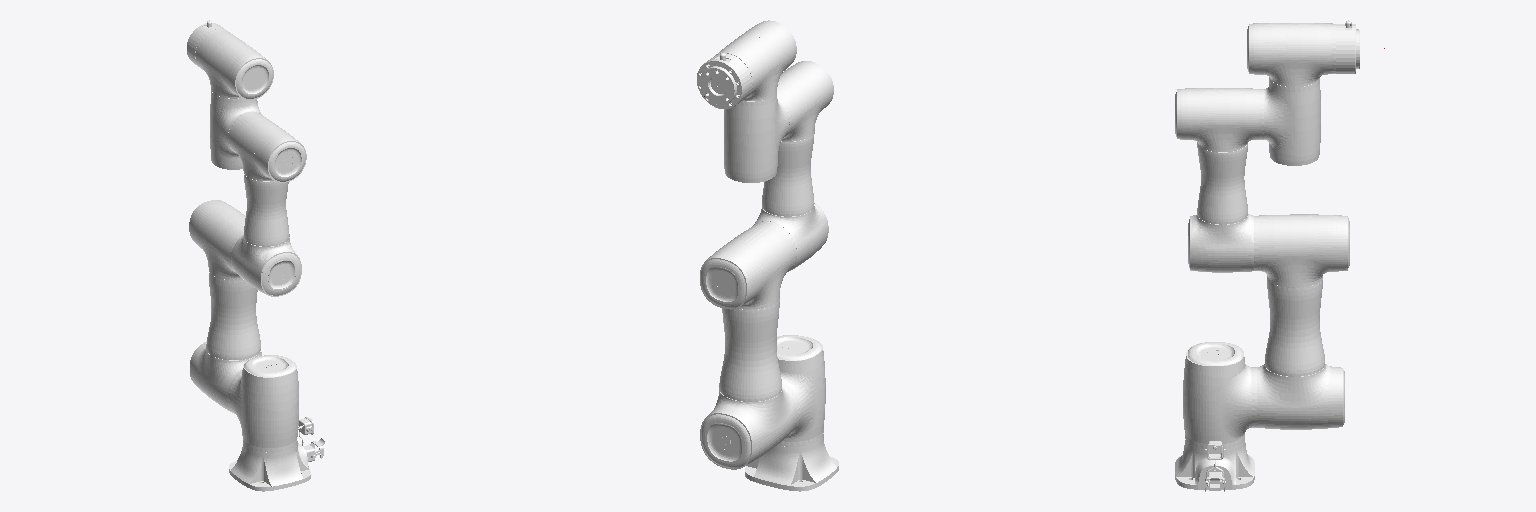
robot.urdf — cr3_robot:
<?xml version="1.0" ?>
<robot name="cr3_robot">
	<link name="world">
		<inertial>
			<origin rpy="0.00000 -0.00000 0.00000" xyz="0.00000 0.00000 0.00000"/>
			<mass value="0.00000"/>
			<inertia ixx="0.00000" ixy="0" ixz="0" iyy="0.00000" iyz="0" izz="0.00000"/>
		</inertial>
	</link>
	<link name="base_link">
		<inertial>
			<origin rpy="0.00000 -0.00000 0.00000" xyz="-0.00272 0.00000 0.02204"/>
			<mass value="0.65300"/>
			<inertia ixx="0.00150" ixy="0" ixz="0" iyy="0.00228" iyz="0" izz="0.00280"/>
		</inertial>
		<visual>
			<origin rpy="0.00000 -0.00000 0.00000" xyz="0.00000 0.00000 0.00000"/>
			<geometry>
				<mesh filename="../robot_arm_assets/cr3/meshes/base_link.STL" scale="1.00000 1.00000 1.00000"/>
			</geometry>
			<material name="mat_0">
				<color rgba="1.00000 1.00000 1.00000 1.00000" />
			</material>
		</visual>
		<collision>
			<origin rpy="0.00000 -0.00000 0.00000" xyz="0.00000 0.00000 0.00000"/>
			<geometry>
				<mesh filename="../robot_arm_assets/cr3/meshes/base_link.STL" scale="1.00000 1.00000 1.00000"/>
			</geometry>
		</collision>
	</link>
	<link name="Link1">
		<inertial>
			<origin rpy="0.00000 -0.00000 0.00000" xyz="-0.00004 -0.00395 0.00364"/>
			<mass value="1.31101"/>
			<inertia ixx="0.00417" ixy="0" ixz="0" iyy="0.00400" iyz="0" izz="0.00282"/>
		</inertial>
		<visual>
			<origin rpy="0.00000 -0.00000 0.00000" xyz="0.00000 0.00000 0.00000"/>
			<geometry>
				<mesh filename="../robot_arm_assets/cr3/meshes/Link1.STL" scale="1.00000 1.00000 1.00000"/>
			</geometry>
			<material name="mat_1">
				<color rgba="1.00000 1.00000 1.00000 1.00000" />
			</material>
		</visual>
		<collision>
			<origin rpy="0.00000 -0.00000 0.00000" xyz="0.00000 0.00000 0.00000"/>
			<geometry>
				<mesh filename="../robot_arm_assets/cr3/meshes/Link1.STL" scale="1.00000 1.00000 1.00000"/>
			</geometry>
		</collision>
	</link>
	<link name="Link2">
		<inertial>
			<origin rpy="0.00000 -0.00000 0.00000" xyz="-0.12924 0.00001 0.13317"/>
			<mass value="3.40044"/>
			<inertia ixx="0.01108" ixy="0" ixz="0" iyy="0.04822" iyz="0" izz="0.04400"/>
		</inertial>
		<visual>
			<origin rpy="0.00000 -0.00000 0.00000" xyz="0.00000 0.00000 0.00000"/>
			<geometry>
				<mesh filename="../robot_arm_assets/cr3/meshes/Link2.STL" scale="1.00000 1.00000 1.00000"/>
			</geometry>
			<material name="mat_2">
				<color rgba="1.00000 1.00000 1.00000 1.00000" />
			</material>
		</visual>
		<collision>
			<origin rpy="0.00000 -0.00000 0.00000" xyz="0.00000 0.00000 0.00000"/>
			<geometry>
				<mesh filename="../robot_arm_assets/cr3/meshes/Link2.STL" scale="1.00000 1.00000 1.00000"/>
			</geometry>
		</collision>
	</link>
	<link name="Link3">
		<inertial>
			<origin rpy="0.00000 -0.00000 0.00000" xyz="-0.11982 0.00000 0.00999"/>
			<mass value="2.21449"/>
			<inertia ixx="0.00597" ixy="0" ixz="0" iyy="0.02366" iyz="0" izz="0.02138"/>
		</inertial>
		<visual>
			<origin rpy="0.00000 -0.00000 0.00000" xyz="0.00000 0.00000 0.00000"/>
			<geometry>
				<mesh filename="../robot_arm_assets/cr3/meshes/Link3.STL" scale="1.00000 1.00000 1.00000"/>
			</geometry>
			<material name="mat_3">
				<color rgba="1.00000 1.00000 1.00000 1.00000" />
			</material>
		</visual>
		<collision>
			<origin rpy="0.00000 -0.00000 0.00000" xyz="0.00000 0.00000 0.00000"/>
			<geometry>
				<mesh filename="../robot_arm_assets/cr3/meshes/Link3.STL" scale="1.00000 1.00000 1.00000"/>
			</geometry>
		</collision>
	</link>
	<link name="Link4">
		<inertial>
			<origin rpy="0.00000 -0.00000 0.00000" xyz="0.00000 0.00345 -0.00287"/>
			<mass value="0.84227"/>
			<inertia ixx="0.00223" ixy="0" ixz="0" iyy="0.00124" iyz="0" izz="0.00215"/>
		</inertial>
		<visual>
			<origin rpy="0.00000 -0.00000 0.00000" xyz="0.00000 0.00000 0.00000"/>
			<geometry>
				<mesh filename="../robot_arm_assets/cr3/meshes/Link4.STL" scale="1.00000 1.00000 1.00000"/>
			</geometry>
			<material name="mat_4">
				<color rgba="1.00000 1.00000 1.00000 1.00000" />
			</material>
		</visual>
		<collision>
			<origin rpy="0.00000 -0.00000 0.00000" xyz="0.00000 0.00000 0.00000"/>
			<geometry>
				<mesh filename="../robot_arm_assets/cr3/meshes/Link4.STL" scale="1.00000 1.00000 1.00000"/>
			</geometry>
		</collision>
	</link>
	<link name="Link5">
		<inertial>
			<origin rpy="0.00000 -0.00000 0.00000" xyz="-0.00000 -0.00333 -0.00287"/>
			<mass value="0.84369"/>
			<inertia ixx="0.00224" ixy="0" ixz="0" iyy="0.00125" iyz="0" izz="0.00216"/>
		</inertial>
		<visual>
			<origin rpy="0.00000 -0.00000 0.00000" xyz="0.00000 0.00000 0.00000"/>
			<geometry>
				<mesh filename="../robot_arm_assets/cr3/meshes/Link5.STL" scale="1.00000 1.00000 1.00000"/>
			</geometry>
			<material name="mat_5">
				<color rgba="1.00000 1.00000 1.00000 1.00000" />
			</material>
		</visual>
		<collision>
			<origin rpy="0.00000 -0.00000 0.00000" xyz="0.00000 0.00000 0.00000"/>
			<geometry>
				<mesh filename="../robot_arm_assets/cr3/meshes/Link5.STL" scale="1.00000 1.00000 1.00000"/>
			</geometry>
		</collision>
	</link>
	<link name="Link6">
		<inertial>
			<origin rpy="0.00000 -0.00000 0.00000" xyz="-0.00000 0.00027 -0.02014"/>
			<mass value="0.15941"/>
			<inertia ixx="0.00015" ixy="0" ixz="0" iyy="0.00013" iyz="0" izz="0.00023"/>
		</inertial>
		<visual>
			<origin rpy="0.00000 -0.00000 0.00000" xyz="0.00000 0.00000 0.00000"/>
			<geometry>
				<mesh filename="../robot_arm_assets/cr3/meshes/Link6.STL" scale="1.00000 1.00000 1.00000"/>
			</geometry>
			<material name="mat_6">
				<color rgba="1.00000 1.00000 1.00000 1.00000" />
			</material>
		</visual>
		<collision>
			<origin rpy="0.00000 -0.00000 0.00000" xyz="0.00000 0.00000 0.00000"/>
			<geometry>
				<mesh filename="../robot_arm_assets/cr3/meshes/Link6.STL" scale="1.00000 1.00000 1.00000"/>
			</geometry>
		</collision>
	</link>
	<link name="ee_link">
		<inertial>
			<origin rpy="-3.14000 -0.00000 1.57000" xyz="0.00000 0.00000 0.00000"/>
			<mass value="0.00000"/>
			<inertia ixx="0.00000" ixy="0" ixz="0" iyy="0.00000" iyz="0" izz="0.00000"/>
		</inertial>
		<visual>
			<origin rpy="0.00000 -0.00000 0.00000" xyz="0.00000 0.00000 0.00000"/>
			<geometry>
				<sphere radius="0.00100"/>
			</geometry>
			<material name="mat_7">
				<color rgba="1.00000 1.00000 1.00000 1.00000" />
			</material>
		</visual>
		<collision>
			<origin rpy="0.00000 -0.00000 0.00000" xyz="0.00000 0.00000 0.00000"/>
			<geometry>
				<sphere radius="0.00100"/>
			</geometry>
		</collision>
	</link>
	<link name="digit_body_link">
		<inertial>
			<origin rpy="0.00000 -0.00000 0.00000" xyz="0.00443 -0.01409 0.00000"/>
			<mass value="0.00778"/>
			<inertia ixx="0.00000" ixy="0" ixz="0" iyy="0.00000" iyz="0" izz="0.00000"/>
		</inertial>
		<visual>
			<origin rpy="0.00000 -0.00000 0.00000" xyz="0.00000 0.00000 0.03500"/>
			<geometry>
				<mesh filename="../sensor_assets/standard_digit/body/digit_body.stl" scale="1.00000 1.00000 1.00000"/>
			</geometry>
			<material name="mat_8">
				<color rgba="0.80000 0.80000 0.80000 1.00000" />
			</material>
		</visual>
		<collision>
			<origin rpy="0.00000 -0.00000 0.00000" xyz="0.00000 0.00000 0.03500"/>
			<geometry>
				<mesh filename="../sensor_assets/standard_digit/body/digit_body.stl" scale="1.00000 1.00000 1.00000"/>
			</geometry>
		</collision>
	</link>
	<link name="digit_tip_link">
		<inertial>
			<origin rpy="0.00000 -0.00000 0.00000" xyz="-0.00000 0.00554 -0.00576"/>
			<mass value="0.00130"/>
			<inertia ixx="0.00000" ixy="0" ixz="0" iyy="0.00000" iyz="0" izz="0.00000"/>
		</inertial>
		<visual>
			<origin rpy="0.00000 -0.00000 0.00000" xyz="0.00000 0.00000 -0.03500"/>
			<geometry>
				<mesh filename="../sensor_assets/standard_digit/tip/digit_skin.stl" scale="1.05000 1.05000 1.00000"/>
			</geometry>
			<material name="mat_9">
				<color rgba="0.00000 0.00000 0.00000 1.00000" />
			</material>
		</visual>
		<collision>
			<origin rpy="0.00000 -0.00000 0.00000" xyz="0.00000 0.00000 -0.03500"/>
			<geometry>
				<mesh filename="../sensor_assets/standard_digit/tip/digit_core.stl" scale="1.05000 1.05000 1.00000"/>
			</geometry>
		</collision>
	</link>
	<link name="tcp_link">
		<inertial>
			<origin rpy="0.00000 -0.00000 1.57000" xyz="0.00000 0.00000 0.00000"/>
			<mass value="0.00000"/>
			<inertia ixx="0.00000" ixy="0" ixz="0" iyy="0.00000" iyz="0" izz="0.00000"/>
		</inertial>
		<visual>
			<origin rpy="0.00000 -0.00000 0.00000" xyz="0.00000 0.00000 0.00000"/>
			<geometry>
				<sphere radius="0.00100"/>
			</geometry>
			<material name="mat_10">
				<color rgba="0.90000 0.00000 0.20000 0.50000" />
			</material>
		</visual>
	</link>
	<joint name="world_joint" type="fixed">
		<parent link="world"/>
		<child link="base_link"/>
		<dynamics damping="1.0" friction="0.0001"/>
		<origin rpy="0.00000 -0.00000 -3.14000" xyz="0.00000 0.00000 0.00000"/>
		<axis xyz="0.00000 0.00000 0.00000"/>
	</joint>
	<joint name="joint1" type="revolute">
		<parent link="base_link"/>
		<child link="Link1"/>
		<limit effort="0.00000" lower="-3.14000" upper="3.14000" velocity="0.00000"/>
		<dynamics damping="1.0" friction="0.0001"/>
		<origin rpy="0.00000 -0.00000 0.00000" xyz="0.00000 0.00000 0.12830"/>
		<axis xyz="0.00000 0.00000 1.00000"/>
	</joint>
	<joint name="joint2" type="revolute">
		<parent link="Link1"/>
		<child link="Link2"/>
		<limit effort="0.00000" lower="-3.14000" upper="3.14000" velocity="0.00000"/>
		<dynamics damping="1.0" friction="0.0001"/>
		<origin rpy="0.00000 1.57080 4.71239" xyz="0.00000 0.00000 0.00000"/>
		<axis xyz="0.00000 0.00000 1.00000"/>
	</joint>
	<joint name="joint3" type="revolute">
		<parent link="Link2"/>
		<child link="Link3"/>
		<limit effort="0.00000" lower="-2.86000" upper="2.86000" velocity="0.00000"/>
		<dynamics damping="1.0" friction="0.0001"/>
		<origin rpy="0.00000 -0.00000 0.00000" xyz="-0.27400 0.00000 0.00000"/>
		<axis xyz="0.00000 0.00000 1.00000"/>
	</joint>
	<joint name="joint4" type="revolute">
		<parent link="Link3"/>
		<child link="Link4"/>
		<limit effort="0.00000" lower="-3.14000" upper="3.14000" velocity="0.00000"/>
		<dynamics damping="1.0" friction="0.0001"/>
		<origin rpy="0.00000 0.00000 -1.57080" xyz="-0.23000 0.00000 0.12830"/>
		<axis xyz="0.00000 0.00000 1.00000"/>
	</joint>
	<joint name="joint5" type="revolute">
		<parent link="Link4"/>
		<child link="Link5"/>
		<limit effort="0.00000" lower="-3.14000" upper="3.14000" velocity="0.00000"/>
		<dynamics damping="1.0" friction="0.0001"/>
		<origin rpy="1.57080 -0.00000 0.00000" xyz="0.00000 -0.11600 0.00000"/>
		<axis xyz="0.00000 0.00000 1.00000"/>
	</joint>
	<joint name="joint6" type="revolute">
		<parent link="Link5"/>
		<child link="Link6"/>
		<limit effort="0.00000" lower="-6.28000" upper="6.28000" velocity="0.00000"/>
		<dynamics damping="1.0" friction="0.0001"/>
		<origin rpy="-1.57080 0.00000 0.00000" xyz="0.00000 0.10500 0.00000"/>
		<axis xyz="0.00000 0.00000 1.00000"/>
	</joint>
	<joint name="ee_joint" type="fixed">
		<parent link="Link6"/>
		<child link="ee_link"/>
		<dynamics damping="1.0" friction="0.0001"/>
		<origin rpy="3.14000 -0.00000 -0.00000" xyz="0.00000 0.00000 0.00000"/>
		<axis xyz="0.00000 0.00000 0.00000"/>
	</joint>
	<joint name="joint_dummy1" type="fixed">
		<parent link="ee_link"/>
		<child link="digit_body_link"/>
		<dynamics damping="1.0" friction="0.0001"/>
		<origin rpy="-3.14159 0.00000 3.14159" xyz="0.00000 0.00000 0.00000"/>
		<axis xyz="0.00000 0.00000 1.00000"/>
	</joint>
	<joint name="digit_tip_to_body" type="fixed">
		<parent link="digit_body_link"/>
		<child link="digit_tip_link"/>
		<dynamics damping="1.0" friction="0.0001"/>
		<origin rpy="-3.14159 -0.00000 1.57080" xyz="-0.00152 -0.00001 -0.00415"/>
		<axis xyz="0.00000 0.00000 0.00000"/>
	</joint>
	<joint name="tcp_joint" type="fixed">
		<parent link="digit_body_link"/>
		<child link="tcp_link"/>
		<dynamics damping="1.0" friction="0.0001"/>
		<origin rpy="0.00000 -0.00000 0.00000" xyz="0.00070 0.00000 0.04000"/>
		<axis xyz="0.00000 0.00000 0.00000"/>
	</joint>
</robot>

--- Facts derived from the render (not from the file) ---
Views: 3 orthographic renders of the robot side by side, from view 1: azimuth 30°, elevation 25°; view 2: azimuth 150°, elevation 25°; view 3: azimuth 270°, elevation 25°.
Model cr3_robot with 12 links and 11 joints (6 revolute, 5 fixed), rooted at world, posed all joints at 0.
Visible links, largest first — view 1: Link3, Link2, Link1, Link5, base_link, Link4; view 2: Link2, Link3, Link4, Link1, Link5, base_link, Link6; view 3: Link2, Link3, Link1, Link5, Link4, base_link, Link6.
Link boxes in pixels (bbox=[...]): Link3: bbox=[228, 112, 306, 296]; Link2: bbox=[189, 200, 261, 413]; Link1: bbox=[230, 355, 298, 452]; Link5: bbox=[195, 29, 273, 99]; base_link: bbox=[229, 417, 325, 491]; Link4: bbox=[210, 91, 261, 169]; Link2: bbox=[700, 221, 799, 469]; Link3: bbox=[753, 61, 833, 270]; Link4: bbox=[724, 93, 789, 182]; Link1: bbox=[777, 335, 825, 446]; Link5: bbox=[716, 20, 796, 100]; base_link: bbox=[745, 433, 838, 491]; Link6: bbox=[697, 53, 751, 109]; Link2: bbox=[1252, 214, 1349, 429]; Link3: bbox=[1175, 88, 1263, 272]; Link1: bbox=[1183, 342, 1251, 448]; Link5: bbox=[1247, 23, 1335, 86]; Link4: bbox=[1264, 78, 1320, 165]; base_link: bbox=[1175, 439, 1254, 491]; Link6: bbox=[1336, 20, 1359, 73].
Size in the robot's own frame: 0.1753 by 0.3393 by 0.8041 metres.
Meshes: 9 distinct files referenced, 7 mesh visuals loaded (7 binary STL); not drawn: 2 (reference not matched to a file when rendering).